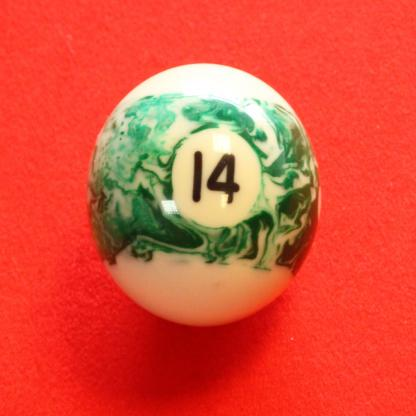Ball: (87, 66, 320, 325)
